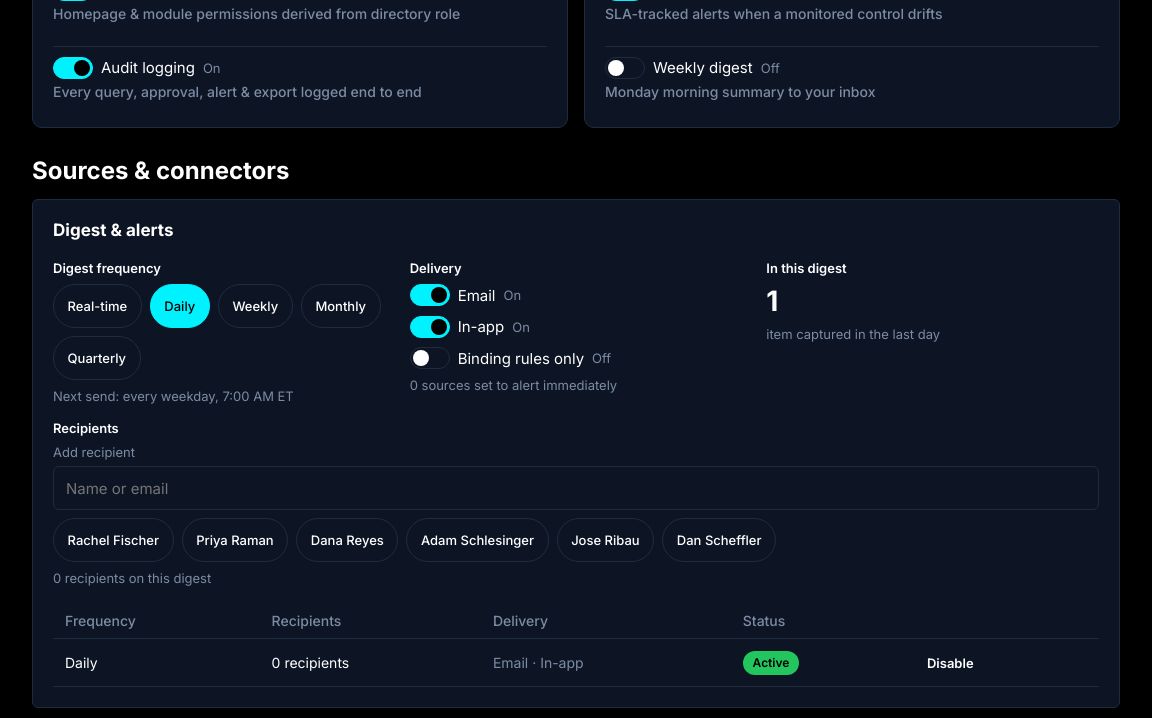
Test: Settings · Toggles — digest & alerts card (base 3345–3387) › cadence chips are single-select and drive the digest window count (base 3345–3387)
(page scrolled)
Click the button "Quarterly" at (97, 358), box [53, 336, 141, 380]
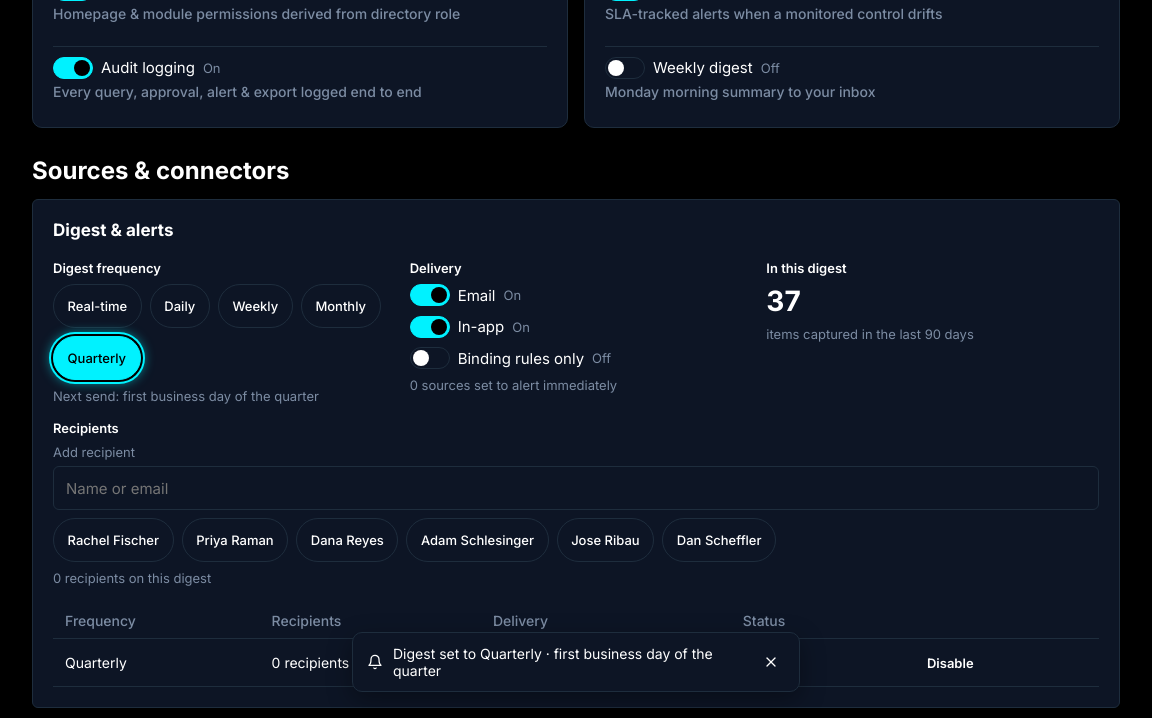
Expected: the text "Next send: first business day of the quarter" is shown, [53, 388, 319, 404]
Expected: the text "items captured in the last 90 days" is shown, [766, 326, 974, 342]
Expected: the text "37" is shown, [766, 284, 801, 318]
